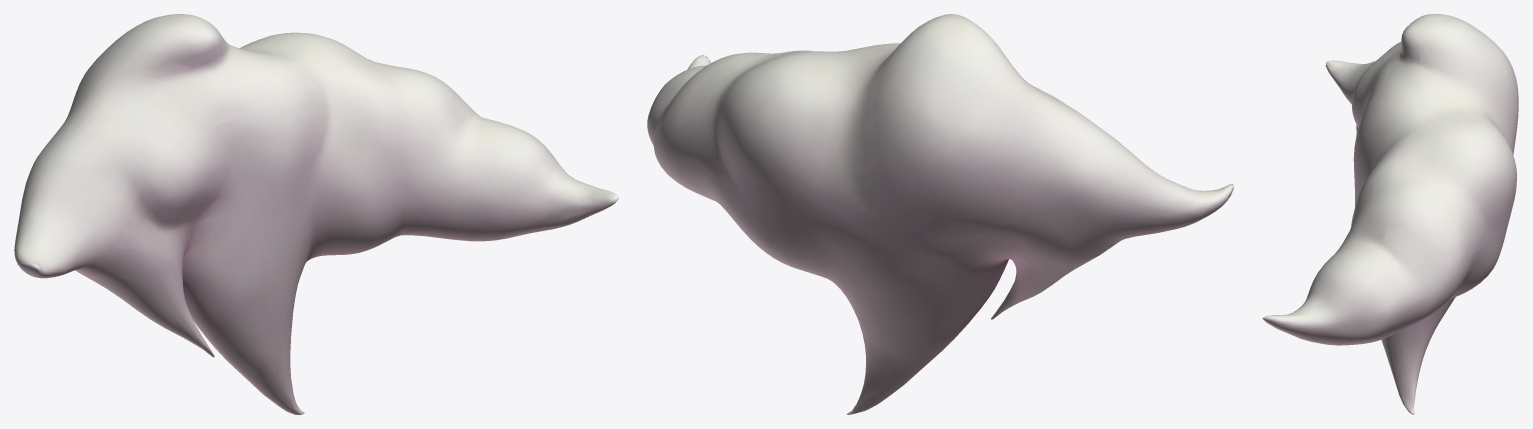
Rendered from sky_cloud_02b.glb.
3 views of the same model, side by side, from view 1: azimuth 30°, elevation 25°; view 2: azimuth 150°, elevation 25°; view 3: azimuth 270°, elevation 25° (orthographic). The views are drawn at different scales.
Visible parts, largest first — view 1: cloud_02b; view 2: cloud_02b; view 3: cloud_02b.
Boxes of the visible parts, left/top/right/bottom form: cloud_02b: left=14, top=14, right=618, bottom=414; cloud_02b: left=647, top=14, right=1233, bottom=414; cloud_02b: left=1262, top=14, right=1518, bottom=414.
Bounding box in the file's own units: 52.72 × 37.58 × 25.03.
1 material, 1 textured.
